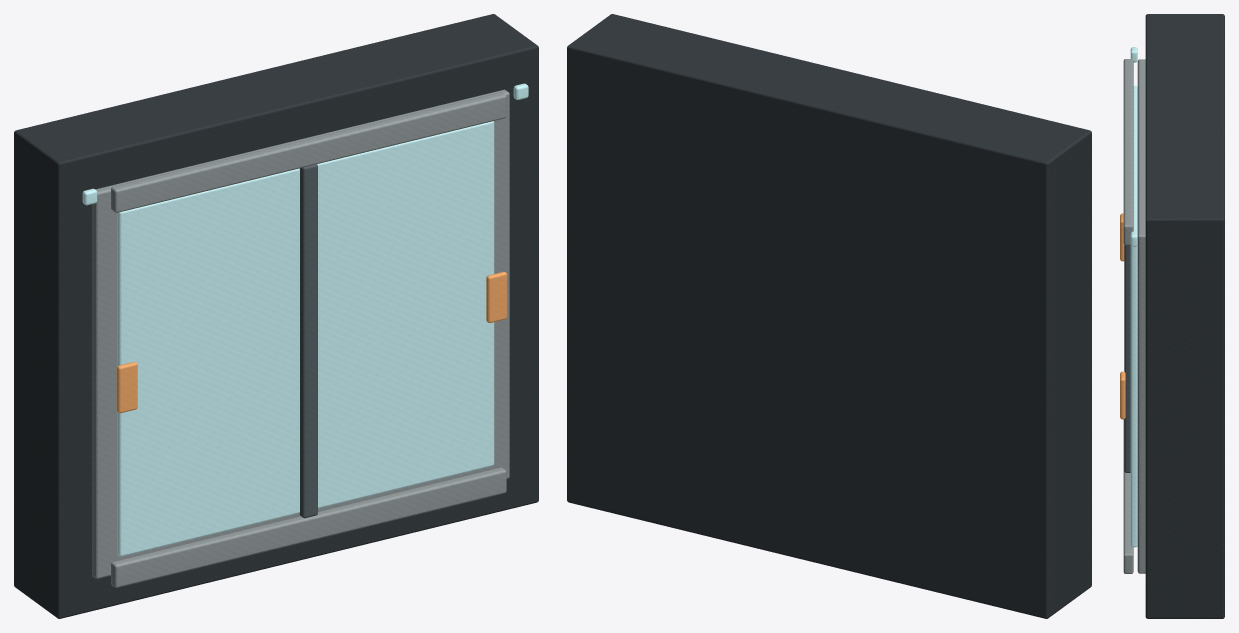
Rendered from ObservationWindow.glb.
3 views of the same model, side by side, from view 1: azimuth 30°, elevation 25°; view 2: azimuth 150°, elevation 25°; view 3: azimuth 270°, elevation 25° (orthographic). The views are drawn at different scales.
Parts seen in each view (by area): view 1: ObservationWindow_Mesh; view 2: ObservationWindow_Mesh; view 3: ObservationWindow_Mesh.
Boxes of the visible parts, x1,y1,x2,y2 form: ObservationWindow_Mesh: (14, 14, 538, 618); ObservationWindow_Mesh: (567, 14, 1091, 618); ObservationWindow_Mesh: (1120, 14, 1224, 618).
Size of the model in its own units: 1.72 by 1.56 by 0.37.
5 materials, 5 textured.
